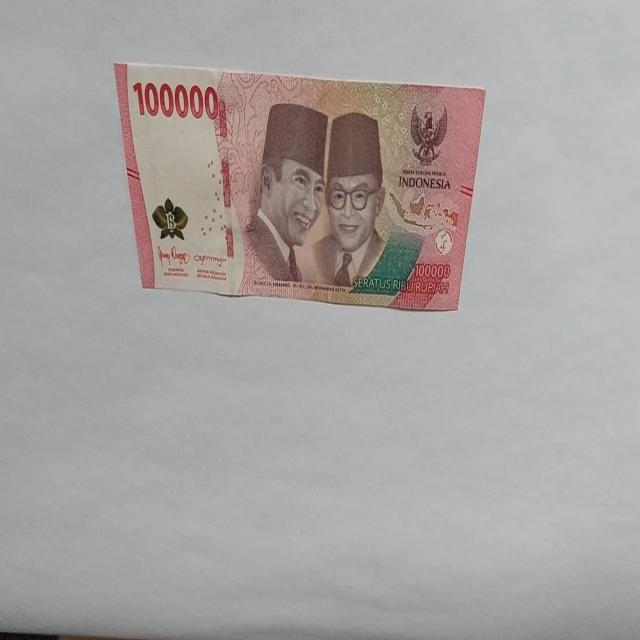seratus ribu rupiah: (114, 60, 486, 313), (238, 102, 328, 294)
